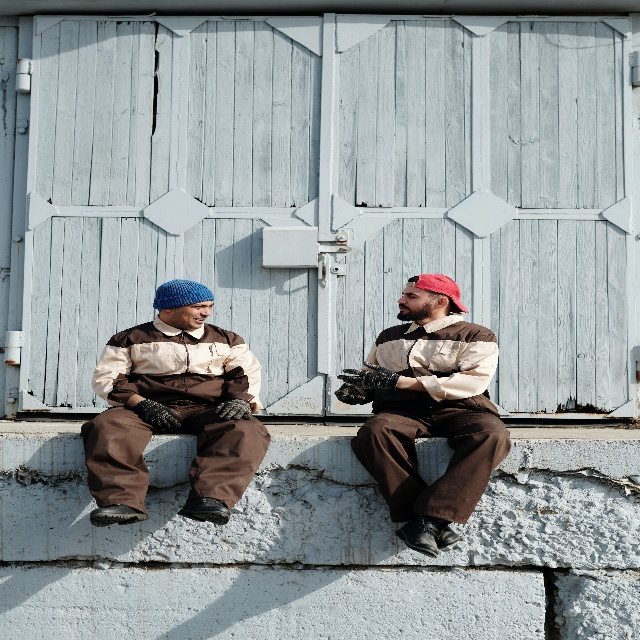Guantes: (336, 357, 402, 391), (134, 396, 183, 430), (214, 396, 252, 422), (334, 382, 366, 406)
